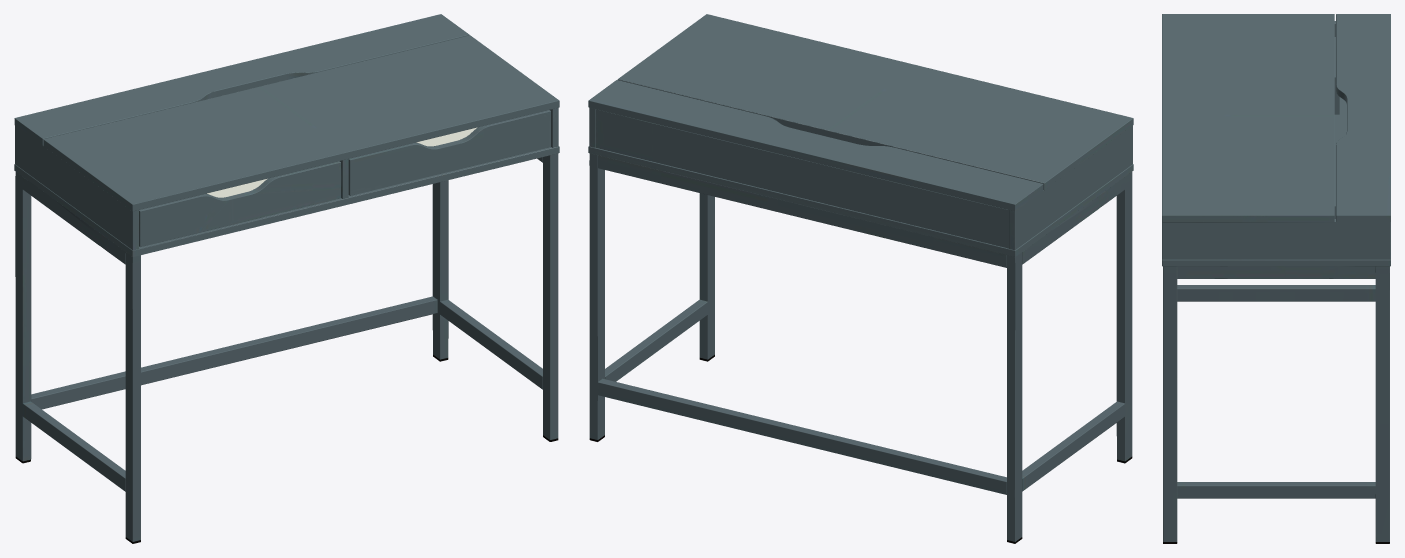
File: ALEX_50473563.glb
3 views of the same model, side by side, from view 1: azimuth 30°, elevation 25°; view 2: azimuth 150°, elevation 25°; view 3: azimuth 270°, elevation 25° (orthographic). The views are drawn at different scales.
Visible parts, largest first — view 1: model; view 2: model; view 3: model.
Boxes of the visible parts, left/top/right/bottom form: model: left=14, top=14, right=559, bottom=543; model: left=588, top=14, right=1133, bottom=543; model: left=1162, top=14, right=1390, bottom=543.
Bounding box in the file's own units: 1 × 0.7611 × 0.48.
Materials: 1 (1 with a texture image).
